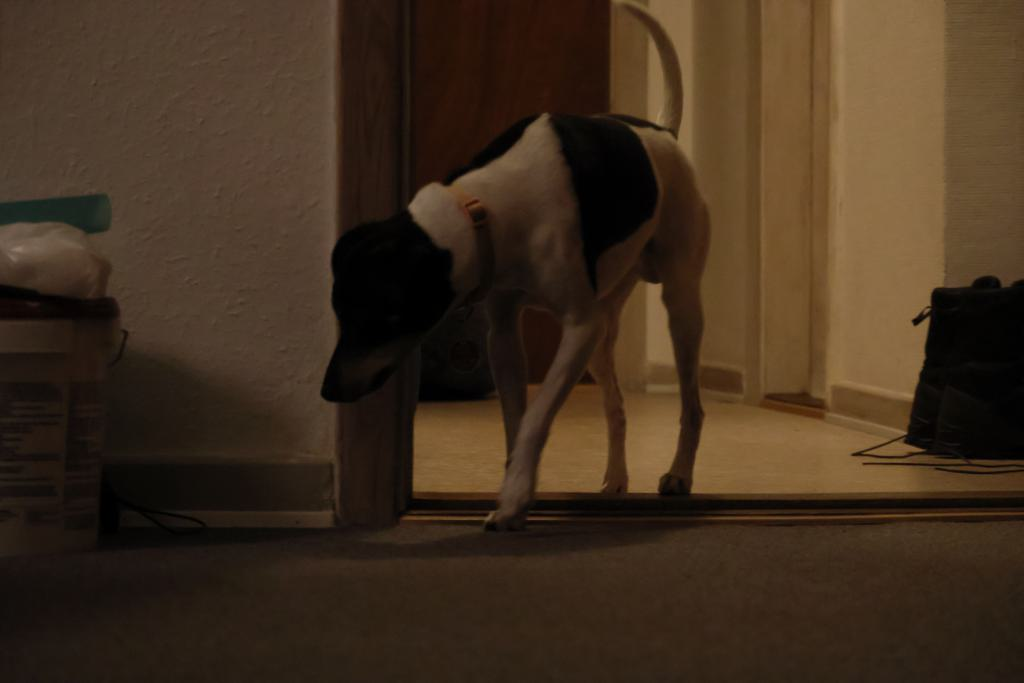Dog: (294, 0, 730, 532)
